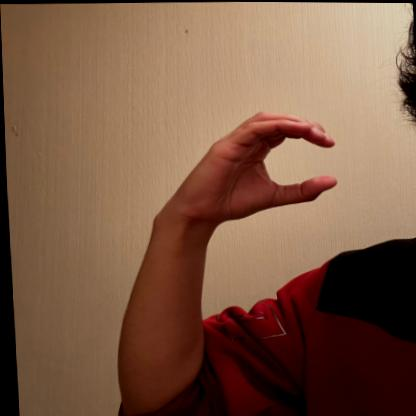C: (169, 104, 339, 227)
